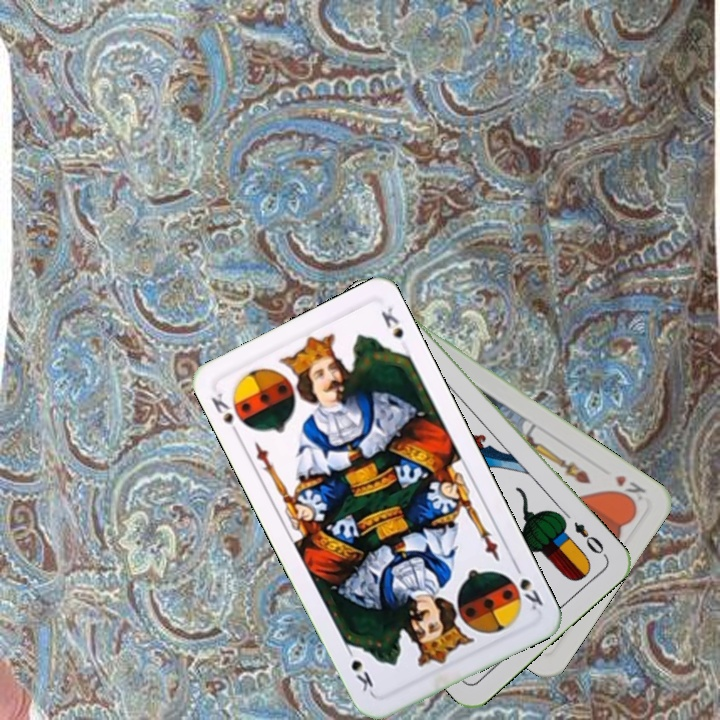EO: (569, 518, 610, 560)
HK: (608, 471, 649, 508)
SK: (509, 559, 546, 613), (207, 388, 243, 441)
